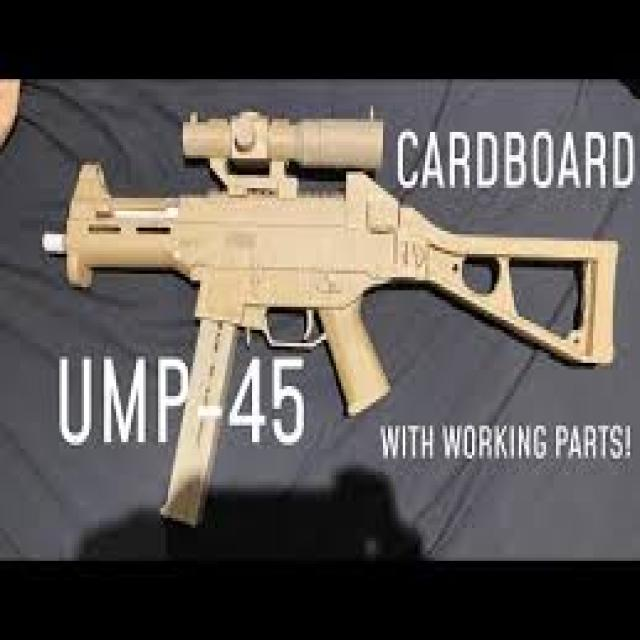Gun: (45, 108, 620, 546)
